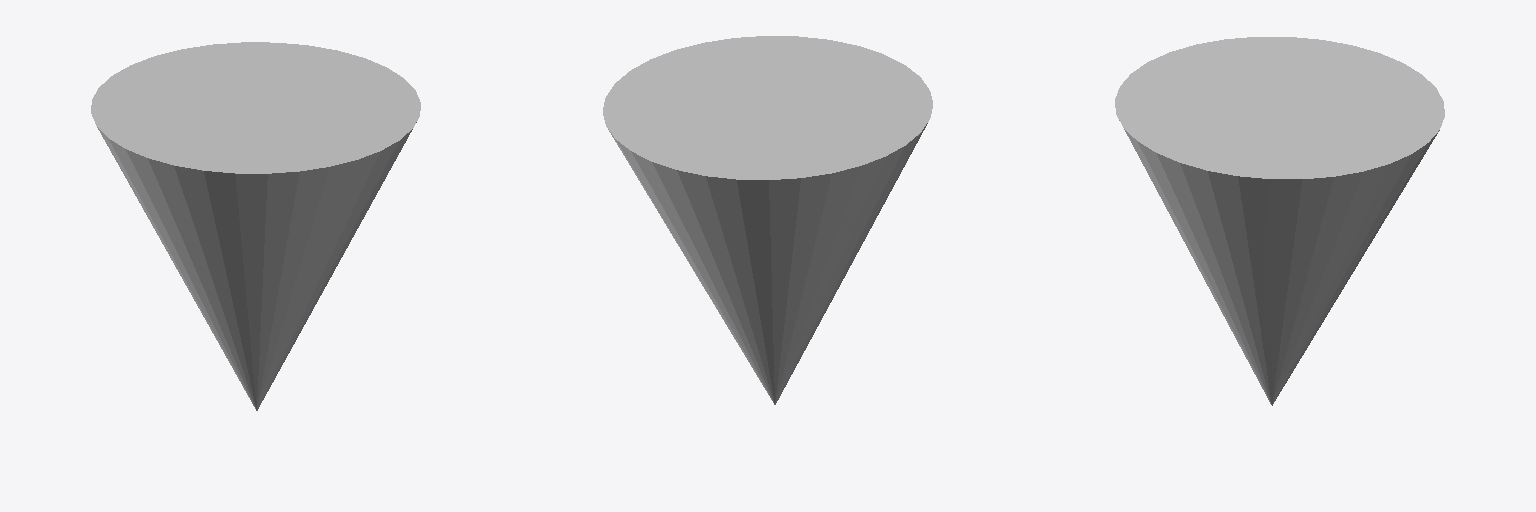
The model's file is island.obj.
3 views of the same model, side by side, from view 1: azimuth 30°, elevation 25°; view 2: azimuth 150°, elevation 25°; view 3: azimuth 270°, elevation 25° (orthographic).
Visible parts, largest first — view 1: Cone; view 2: Cone; view 3: Cone.
Part boxes in pixels (left/top/right/bottom): Cone: left=91, top=42, right=420, bottom=410; Cone: left=603, top=36, right=932, bottom=404; Cone: left=1115, top=37, right=1444, bottom=405.
Bounding box in the file's own units: 2 × 2.03 × 2.